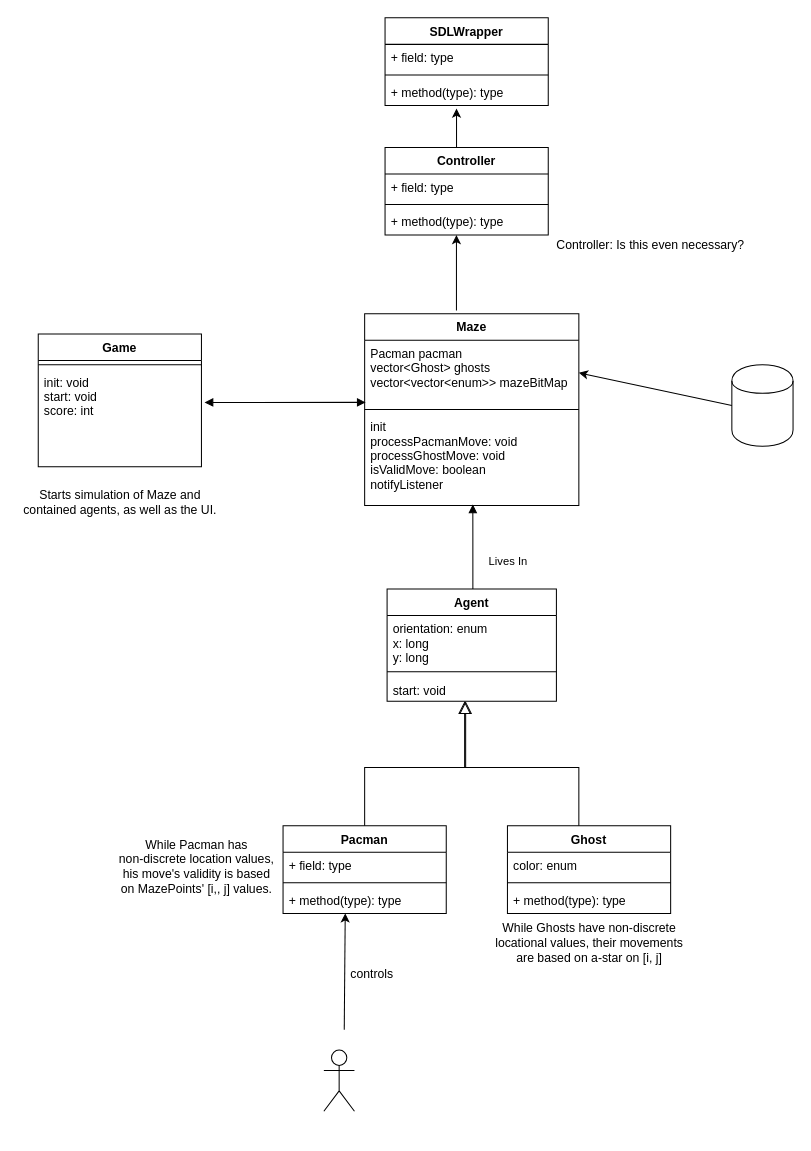
The diagram is 811 pixels wide and 1151 high, and some of its shapes have lost their labels. The shapes that lost their labels are listed below. From the top down, each one's centre as x and y in pixels, then its label:
the point at 762,405: Maze Config
the point at 338,1080: Actor
